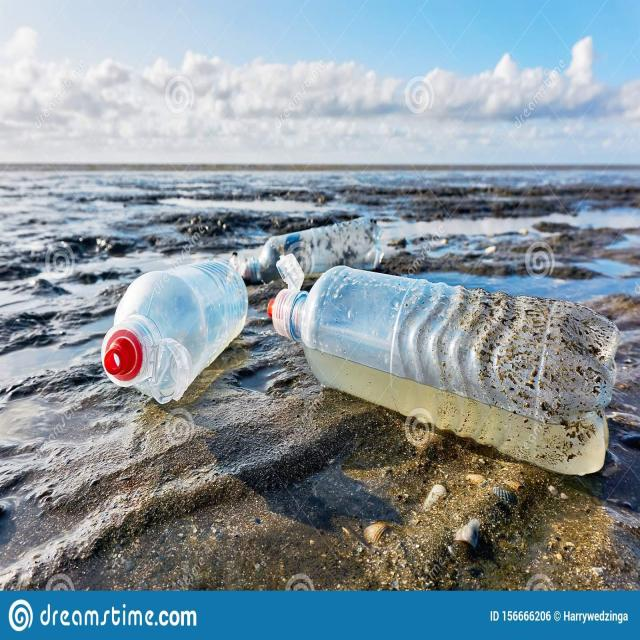bottle: (260, 218, 624, 493), (92, 261, 256, 414), (245, 216, 386, 280)
